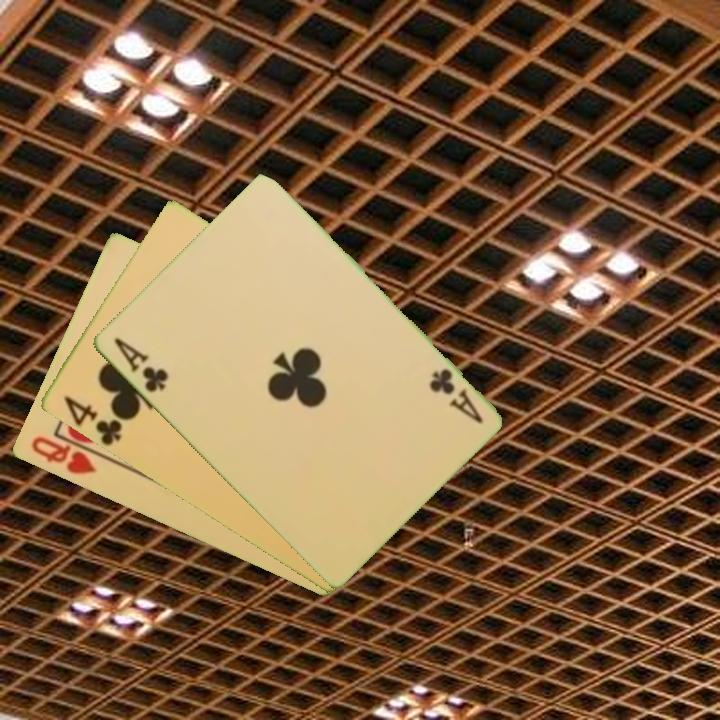4c: (59, 392, 125, 448)
Ac: (425, 364, 486, 427), (110, 333, 171, 395)
Qh: (27, 433, 99, 478)
